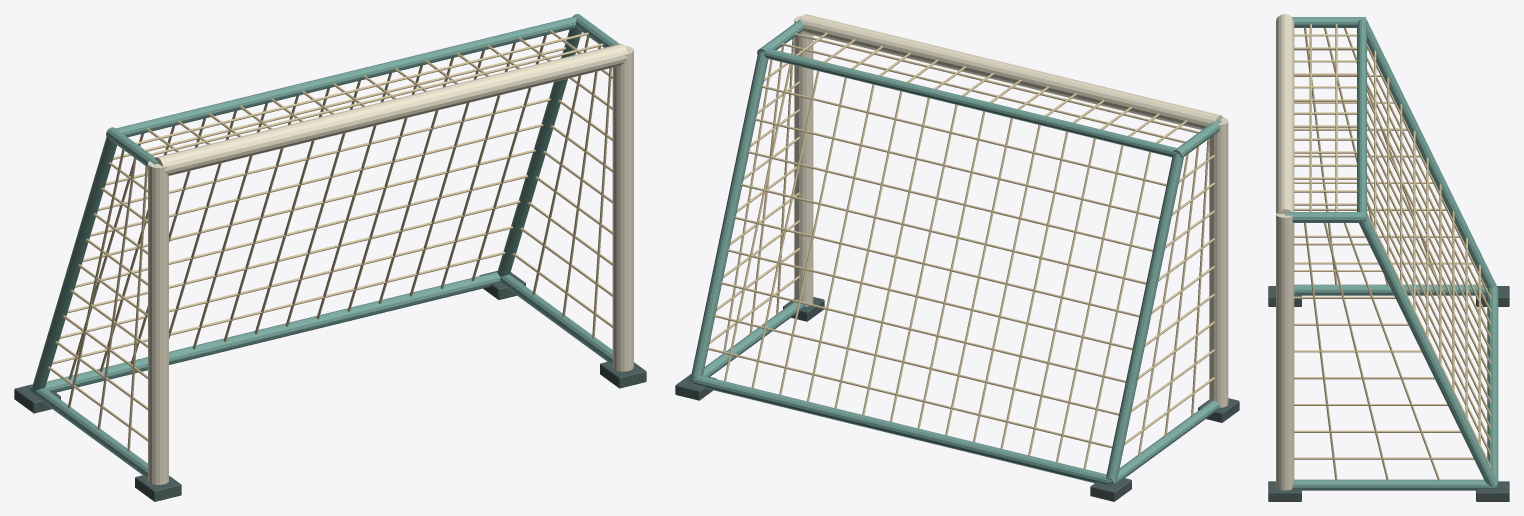
The picture shows the model from 3 angles, left to right: view 1: azimuth 30°, elevation 25°; view 2: azimuth 150°, elevation 25°; view 3: azimuth 270°, elevation 25°; orthographic projection. The views are drawn at different scales.
Visible parts, largest first — view 1: FrontCrossbar, FrontPost_Right, FrontPost_Left, RearGroundCrossbar, RearUpperCrossbar, RearStay_Left, RearStay_Right, GroundReturn_Left, GroundReturn_Right, Net_Roof_H_02, Net_Roof_H_01, Net_Back_H_07 (+26 smaller); view 2: FrontCrossbar, FrontPost_Left, RearGroundCrossbar, RearUpperCrossbar, FrontPost_Right, RearStay_Left, RearStay_Right, GroundReturn_Left, GroundReturn_Right, Net_Back_H_01, Net_Back_H_06, Net_Back_H_03 (+29 smaller); view 3: FrontPost_Right, FrontCrossbar, RearStay_Right, RearStay_Left, GroundReturn_Right, RearGroundCrossbar, RearUpperCrossbar, GroundReturn_Left, RoofShoulder_Right, Net_Right_V_03, Net_Right_V_02, Net_Back_V_02 (+42 smaller).
Part boxes in pixels (x1,y1,x2,y2): FrontCrossbar: (154,43,628,175); FrontPost_Right: (612,45,633,371); FrontPost_Left: (148,161,168,484); RearGroundCrossbar: (45,272,500,392); RearUpperCrossbar: (116,16,576,137); RearStay_Left: (32,136,117,391); RearStay_Right: (497,28,581,276); GroundReturn_Left: (30,384,147,477); GroundReturn_Right: (497,271,612,363); Net_Roof_H_02: (135,32,588,144); Net_Roof_H_01: (150,43,603,155); Net_Back_H_07: (98,98,550,210); FrontCrossbar: (800,14,1222,129); FrontPost_Left: (1209,117,1228,407); RearGroundCrossbar: (693,376,1108,484); RearUpperCrossbar: (762,48,1176,157); FrontPost_Right: (794,15,813,306); RearStay_Left: (1106,153,1183,481); RearStay_Right: (691,52,768,379); GroundReturn_Left: (1106,400,1219,485); GroundReturn_Right: (689,299,804,382); Net_Back_H_01: (707,347,1112,448); Net_Back_H_06: (741,183,1146,284); Net_Back_H_03: (720,282,1125,382); FrontPost_Right: (1276,213,1294,490); FrontCrossbar: (1276,14,1294,213); RearStay_Right: (1359,215,1497,487); RearStay_Left: (1366,19,1497,289); GroundReturn_Right: (1292,479,1496,490); RearGroundCrossbar: (1487,287,1498,486); RearUpperCrossbar: (1357,19,1366,215); GroundReturn_Left: (1294,284,1496,295); RoofShoulder_Right: (1285,212,1365,222); Net_Right_V_03: (1343,223,1440,480); Net_Right_V_02: (1324,223,1388,480); Net_Back_V_02: (1367,56,1491,312).
Size of the model in its own units: 3.18 by 2.06 by 1.57.
